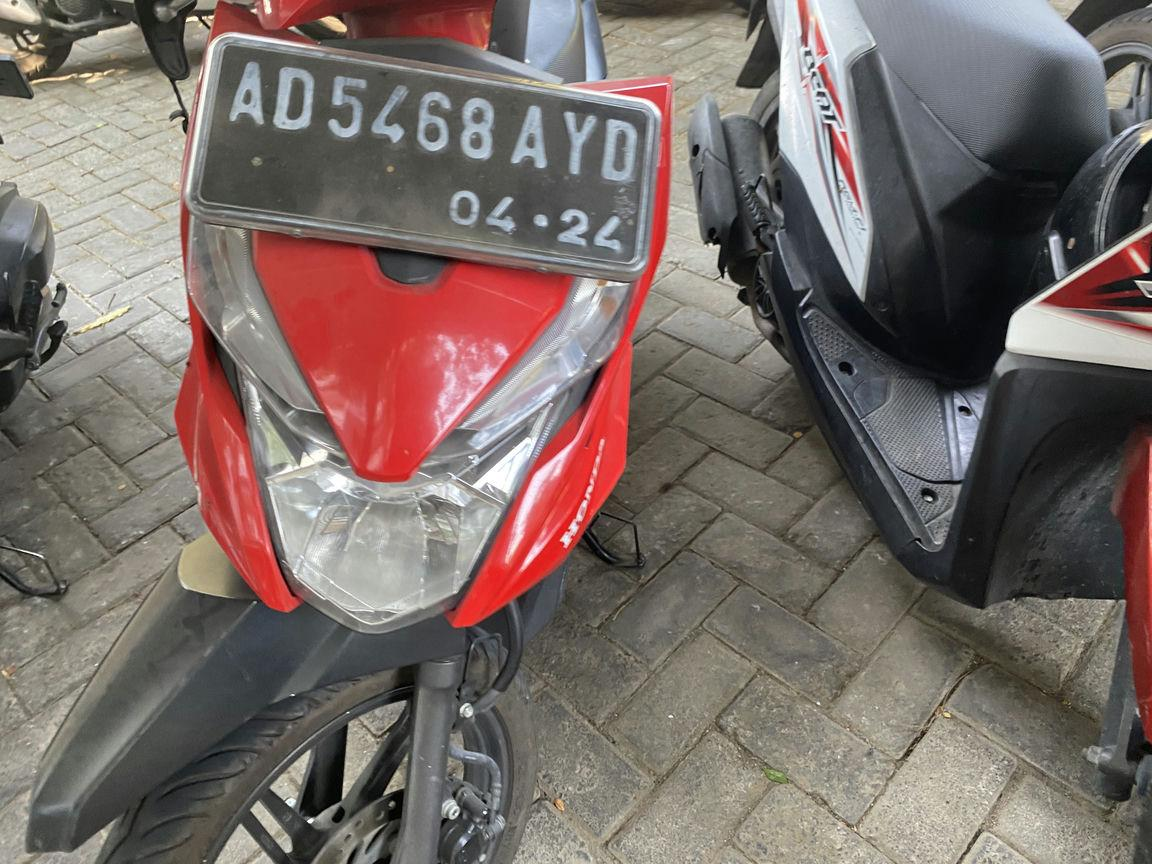plat: (184, 34, 659, 281)
